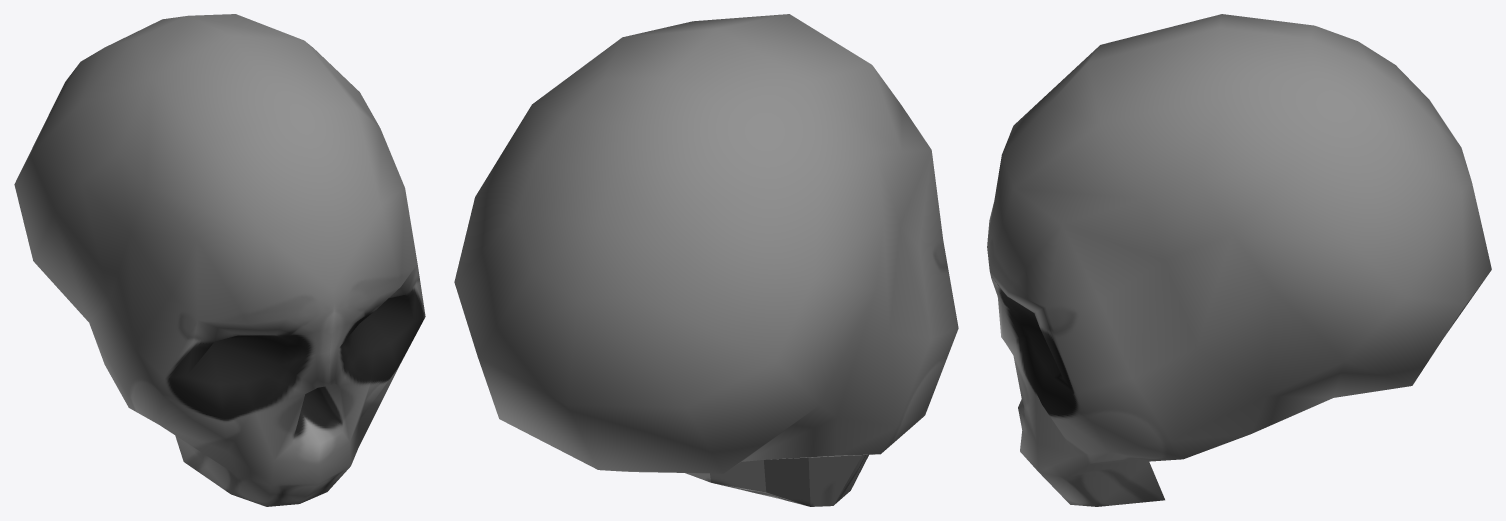
File: skul_bullet.fbx
3 renders of one model, left to right at view 1: azimuth 30°, elevation 25°; view 2: azimuth 150°, elevation 25°; view 3: azimuth 270°, elevation 25°, orthographic. The views are drawn at different scales.
Parts seen in each view (by area): view 1: skul; view 2: skul; view 3: skul.
Boxes of the visible parts, left/top/right/bottom form: skul: left=14, top=14, right=425, bottom=506; skul: left=454, top=14, right=958, bottom=506; skul: left=987, top=14, right=1491, bottom=506.
Bounding box in the file's own units: 13.84 × 18.23 × 17.8.
